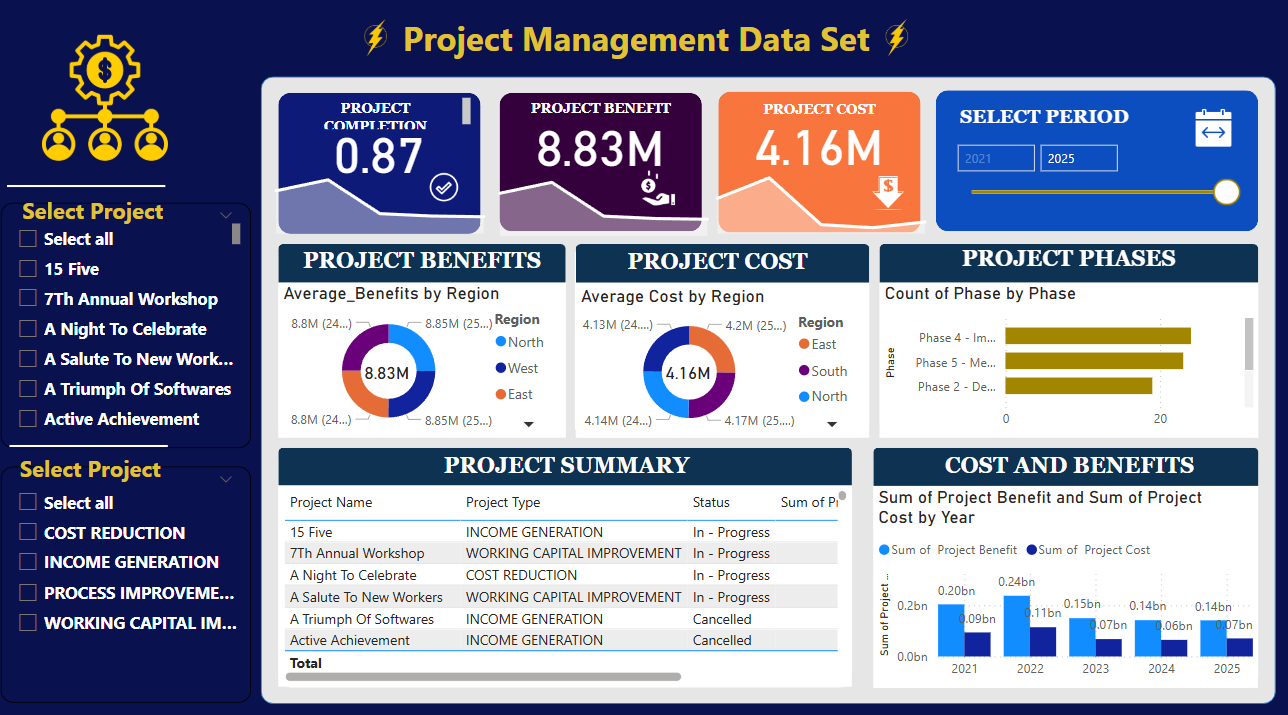

The page's visual inventory and layout, read from the dashboard file:
{"tool":"powerbi","page":{"name":"Page 1","canvas":[1280,720],"ordinal":0},"visuals":[{"type":"shape","box":[12.3,12.3,1254.2,697.1],"z":0},{"type":"shape","box":[269,89.3,979.6,605.6],"z":1000},{"type":"shape","box":[285.9,105,195.4,136.3],"z":2000},{"type":"shape","box":[499.5,105,195.4,133.9],"z":3000},{"type":"shape","box":[710.6,103.8,195.4,136.3],"z":4000},{"type":"shape","box":[920.5,102.5,311.3,136.3],"z":5000},{"type":"shape","box":[285.9,250.9,277.5,187],"z":6000},{"type":"shape","box":[571.9,250.9,284.7,187],"z":7000},{"type":"shape","box":[866.2,250.9,365.6,187],"z":8000},{"type":"shape","box":[285.9,447.6,553.8,231.6],"z":9000},{"type":"shape","box":[860.4,447.3,371.9,231.9],"z":10000},{"type":"shape","box":[285.9,250.9,277.5,37.4],"z":11000},{"type":"shape","box":[573.1,250.9,283.5,37.4],"z":12000},{"type":"shape","box":[866.2,250.9,365.6,37.4],"z":13000},{"type":"shape","box":[285.9,447.6,553.8,37.4],"z":14000},{"type":"shape","box":[860.4,447.3,371.9,37],"z":15000},{"type":"textbox","box":[380,25.7,502.9,62.9],"z":16000},{"type":"image","box":[357.1,28.6,45.7,45.7],"z":17000},{"type":"image","box":[860,28.6,45.7,45.7],"z":18000},{"type":"image","box":[53.1,41,131.5,137.5],"z":19000},{"type":"slicer","fields":{"Values":["Project+Management+Dataset.Project Name"]},"box":[18.1,211.1,241.3,236.5],"z":20000},{"type":"slicer","fields":{"Values":["Project+Management+Dataset.Project Type"]},"box":[18.1,465.7,241.3,228],"z":21000},{"type":"textbox","box":[28.6,198.6,155.7,40],"z":21001},{"type":"textbox","box":[27.1,447.1,155.7,40],"z":21002},{"type":"card","fields":{"Values":["Project+Management+Dataset.Average Completion"]},"box":[294.4,120.6,177.3,78.4],"z":21003},{"type":"card","fields":{"Values":["Project+Management+Dataset.Average_Benefits"]},"box":[507.9,115.8,177.3,74.8],"z":21004},{"type":"card","fields":{"Values":["Project+Management+Dataset.Average Cost"]},"box":[719,113.4,177.3,77.2],"z":21005},{"type":"donutChart","fields":{"Category":["Project+Management+Dataset.Region"],"Y":["Project+Management+Dataset.Average_Benefits"]},"box":[285.9,288.3,277.5,149.6],"z":21006},{"type":"shape","box":[27.1,430,152.9,32.9],"z":21007},{"type":"shape","box":[24.3,178.6,152.9,32.9],"z":21008},{"type":"donutChart","fields":{"Category":["Project+Management+Dataset.Region"],"Y":["Project+Management+Dataset.Average Cost"]},"box":[573.1,290.8,283.5,147.2],"z":21009},{"type":"clusteredBarChart","fields":{"Category":["Project+Management+Dataset.Phase"],"Y":["CountNonNull(Project+Management+Dataset.Phase)"]},"box":[866.2,288.3,365.6,149.6],"z":21010},{"type":"clusteredColumnChart","fields":{"Category":["Project+Management+Dataset.Year"],"Y":["Sum(Project+Management+Dataset. Project Benefit )","Sum(Project+Management+Dataset. Project Cost )"]},"box":[860.2,485,371.6,194.2],"z":21011},{"type":"tableEx","fields":{"Values":["Project+Management+Dataset.Project Name","Project+Management+Dataset.Project Type","Project+Management+Dataset.Status","Sum(Project+Management+Dataset. Project Benefit )","Sum(Project+Management+Dataset. Project Cost )"]},"box":[285.9,483.8,553.8,194.2],"z":21012},{"type":"slicer","fields":{"Values":["Project+Management+Dataset.Year"]},"box":[929,144.8,293.2,94.1],"z":21013},{"type":"textbox","box":[433.1,447.6,261.8,39.8],"z":21014},{"type":"textbox","box":[910.9,447.6,277.5,39.8],"z":21015},{"type":"textbox","box":[591.2,250.9,237.7,39.8],"z":21016},{"type":"textbox","box":[932.6,248.5,232.8,39.8],"z":21017},{"type":"textbox","box":[296.8,249.7,255.8,39.8],"z":21018},{"type":"card","fields":{"Values":["Project+Management+Dataset.Average_Benefits"]},"box":[357.1,359.5,67.6,32.6],"z":21019},{"type":"card","fields":{"Values":["Project+Management+Dataset.Average Cost"]},"box":[647.9,359.5,67.6,32.6],"z":21020},{"type":"textbox","box":[290.8,105,185.8,39.8],"z":21021},{"type":"textbox","box":[504.3,105,185.8,39.8],"z":21022},{"type":"textbox","box":[715.4,106.2,185.8,39.8],"z":21023},{"type":"areaChart","fields":{"Y":["Sum(Project+Management+Dataset.Completion%)"],"Category":["Project+Management+Dataset.Year"]},"box":[269,167.7,230.4,78.4],"z":21024},{"type":"areaChart","fields":{"Y":["Sum(Project+Management+Dataset.Completion%)"],"Category":["Project+Management+Dataset.Year"]},"box":[485,170.1,230.4,78.4],"z":21025},{"type":"areaChart","fields":{"Y":["Sum(Project+Management+Dataset. Project Cost )"],"Category":["Project+Management+Dataset.Year"]},"box":[694.9,167.7,230.4,78.4],"z":21026},{"type":"image","box":[631,173.7,43.4,45.8],"z":21027},{"type":"image","box":[419.8,170.1,51.9,51.9],"z":21028},{"type":"image","box":[853,173.7,43.4,54.3],"z":21029},{"type":"image","box":[1159.4,115.8,57.9,47.1],"z":21030},{"type":"textbox","box":[932.6,112.2,185.8,39.8],"z":21031}]}

Visuals, with their boxes in screenshot pixels (x1, y1, x2, y2), scaled from the page's 1280x720 canvas onto the 1288x715 screenshot:
shape: x1=12 y1=12 x2=1274 y2=704
shape: x1=271 y1=89 x2=1256 y2=690
shape: x1=288 y1=104 x2=484 y2=240
shape: x1=503 y1=104 x2=699 y2=237
shape: x1=715 y1=103 x2=912 y2=238
shape: x1=926 y1=102 x2=1239 y2=237
shape: x1=288 y1=249 x2=567 y2=435
shape: x1=575 y1=249 x2=862 y2=435
shape: x1=872 y1=249 x2=1239 y2=435
shape: x1=288 y1=444 x2=845 y2=674
shape: x1=866 y1=444 x2=1240 y2=674
shape: x1=288 y1=249 x2=567 y2=286
shape: x1=577 y1=249 x2=862 y2=286
shape: x1=872 y1=249 x2=1239 y2=286
shape: x1=288 y1=444 x2=845 y2=482
shape: x1=866 y1=444 x2=1240 y2=481
textbox: x1=382 y1=26 x2=888 y2=88
image: x1=359 y1=28 x2=405 y2=74
image: x1=865 y1=28 x2=911 y2=74
image: x1=53 y1=41 x2=186 y2=177
slicer - Project+Management+Dataset.Project Name: x1=18 y1=210 x2=261 y2=444
slicer - Project+Management+Dataset.Project Type: x1=18 y1=462 x2=261 y2=689
textbox: x1=29 y1=197 x2=185 y2=237
textbox: x1=27 y1=444 x2=184 y2=484
card - Project+Management+Dataset.Average Completion: x1=296 y1=120 x2=475 y2=198
card - Project+Management+Dataset.Average_Benefits: x1=511 y1=115 x2=689 y2=189
card - Project+Management+Dataset.Average Cost: x1=723 y1=113 x2=902 y2=189
donutChart - Project+Management+Dataset.Region x Project+Management+Dataset.Average_Benefits: x1=288 y1=286 x2=567 y2=435
shape: x1=27 y1=427 x2=181 y2=460
shape: x1=24 y1=177 x2=178 y2=210
donutChart - Project+Management+Dataset.Region x Project+Management+Dataset.Average Cost: x1=577 y1=289 x2=862 y2=435
clusteredBarChart - Project+Management+Dataset.Phase x CountNonNull(Project+Management+Dataset.Phase): x1=872 y1=286 x2=1239 y2=435
clusteredColumnChart - Project+Management+Dataset.Year x Sum(Project+Management+Dataset. Project Benefit ): x1=866 y1=482 x2=1239 y2=674
tableEx - Project+Management+Dataset.Project Name x Project+Management+Dataset.Project Type: x1=288 y1=480 x2=845 y2=673
slicer - Project+Management+Dataset.Year: x1=935 y1=144 x2=1230 y2=237
textbox: x1=436 y1=444 x2=699 y2=484
textbox: x1=917 y1=444 x2=1196 y2=484
textbox: x1=595 y1=249 x2=834 y2=289
textbox: x1=938 y1=247 x2=1173 y2=286
textbox: x1=299 y1=248 x2=556 y2=287
card - Project+Management+Dataset.Average_Benefits: x1=359 y1=357 x2=427 y2=389
card - Project+Management+Dataset.Average Cost: x1=652 y1=357 x2=720 y2=389
textbox: x1=293 y1=104 x2=480 y2=144
textbox: x1=507 y1=104 x2=694 y2=144
textbox: x1=720 y1=105 x2=907 y2=145
areaChart - Sum(Project+Management+Dataset.Completion%) x Project+Management+Dataset.Year: x1=271 y1=167 x2=503 y2=244
areaChart - Sum(Project+Management+Dataset.Completion%) x Project+Management+Dataset.Year: x1=488 y1=169 x2=720 y2=247
areaChart - Sum(Project+Management+Dataset. Project Cost ) x Project+Management+Dataset.Year: x1=699 y1=167 x2=931 y2=244
image: x1=635 y1=172 x2=679 y2=218
image: x1=422 y1=169 x2=475 y2=220
image: x1=858 y1=172 x2=902 y2=226
image: x1=1167 y1=115 x2=1225 y2=162
textbox: x1=938 y1=111 x2=1125 y2=151
